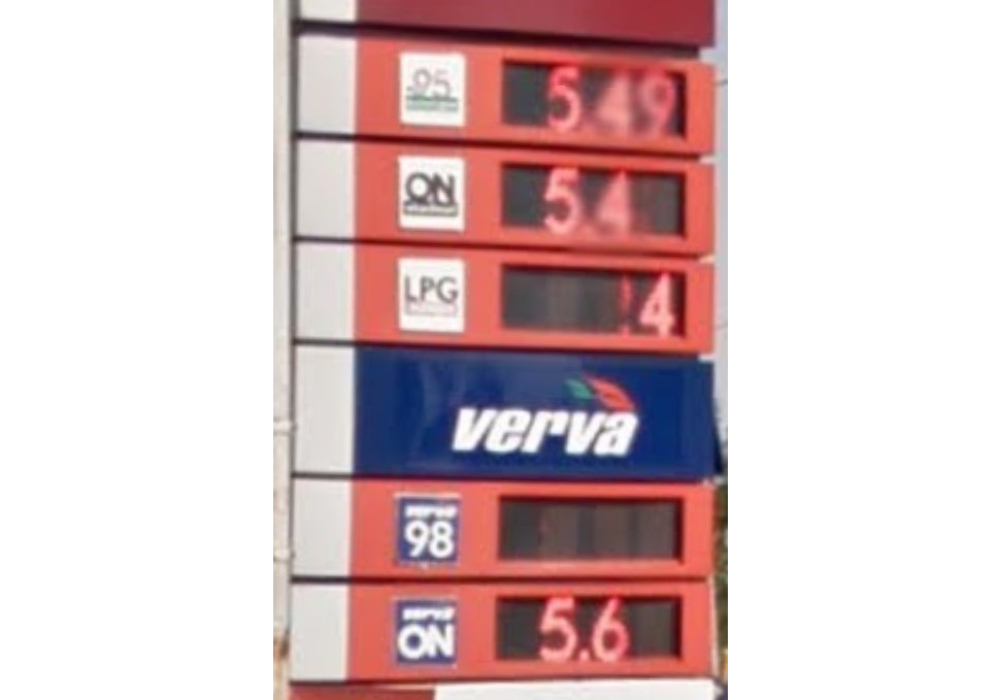LPG: (395, 255, 463, 333)
ON: (395, 153, 466, 236), (391, 593, 456, 666)
PB95: (399, 51, 466, 128)
PB98: (396, 493, 460, 568)
